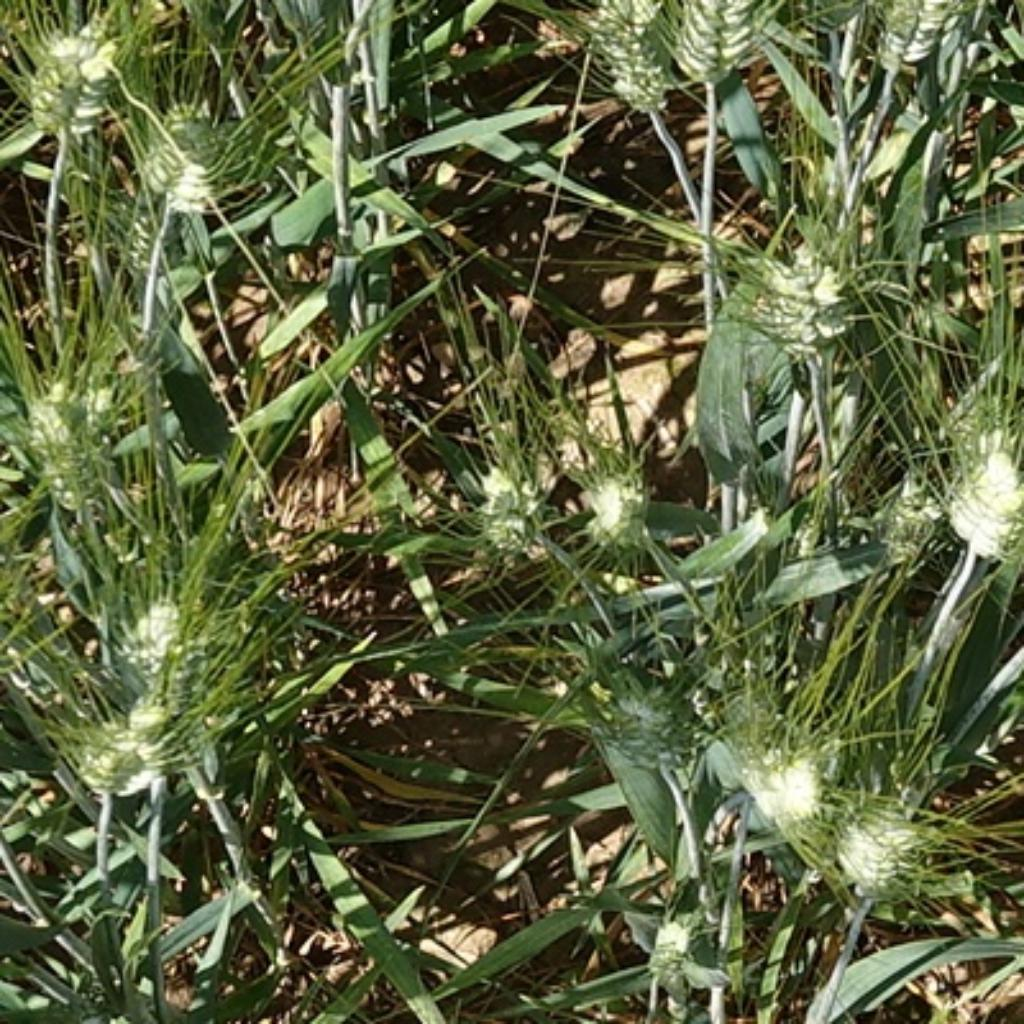0-0: (706, 670, 839, 832), (12, 7, 143, 140), (581, 657, 701, 773), (829, 780, 942, 901), (134, 91, 242, 213), (555, 2, 670, 112), (754, 267, 865, 378), (67, 698, 184, 803), (465, 430, 560, 558), (573, 442, 663, 558), (16, 387, 94, 517), (943, 441, 1024, 560), (670, 2, 773, 94), (117, 572, 203, 677), (867, 460, 954, 558), (865, 2, 960, 76), (640, 903, 704, 983)
